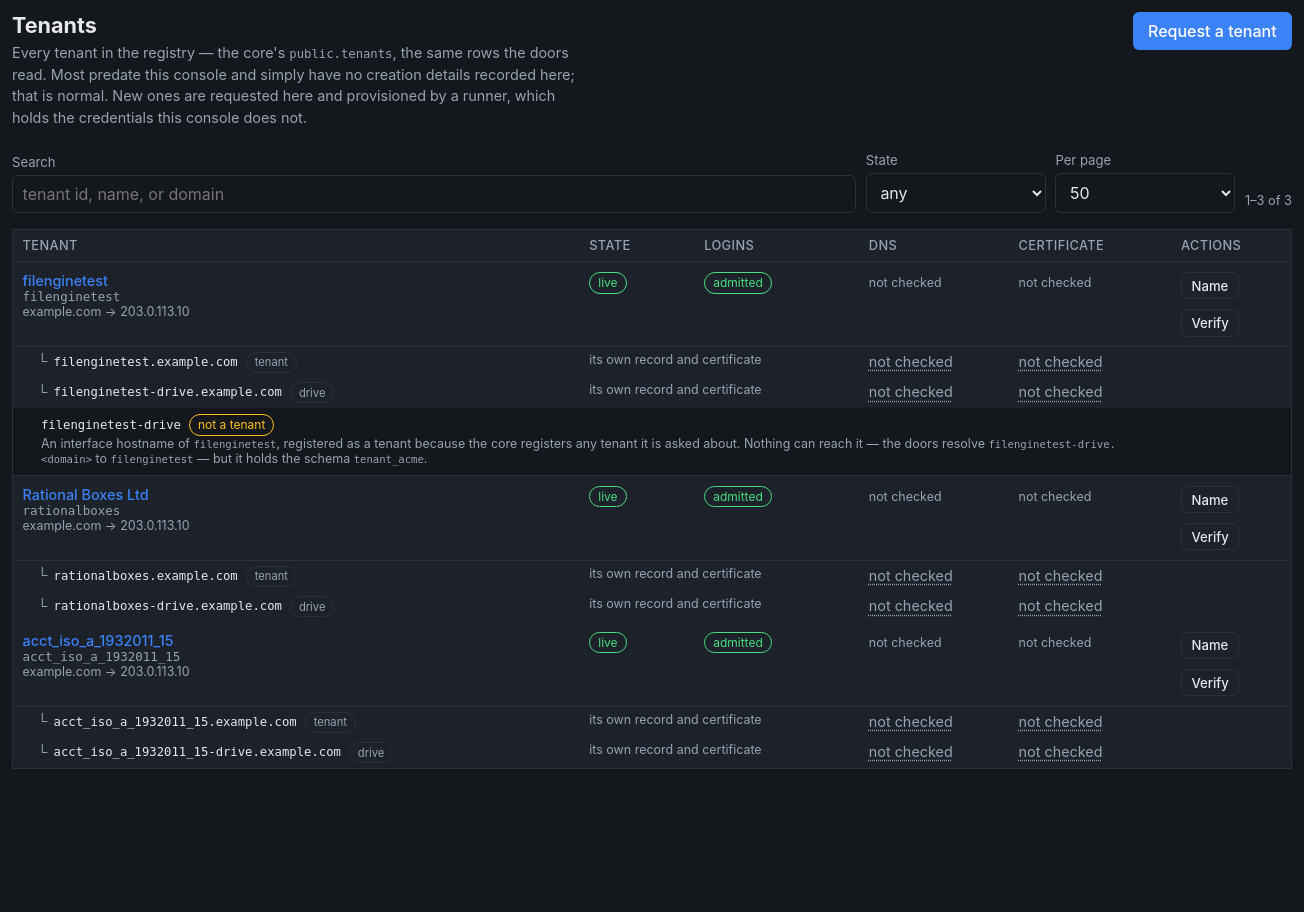
Test: the search filter › shows every interface of a group it keeps
Type "rationalboxes" into the search field labelled "Search".
click(434, 194); type("rationalboxes")  # box [12,175,856,213]
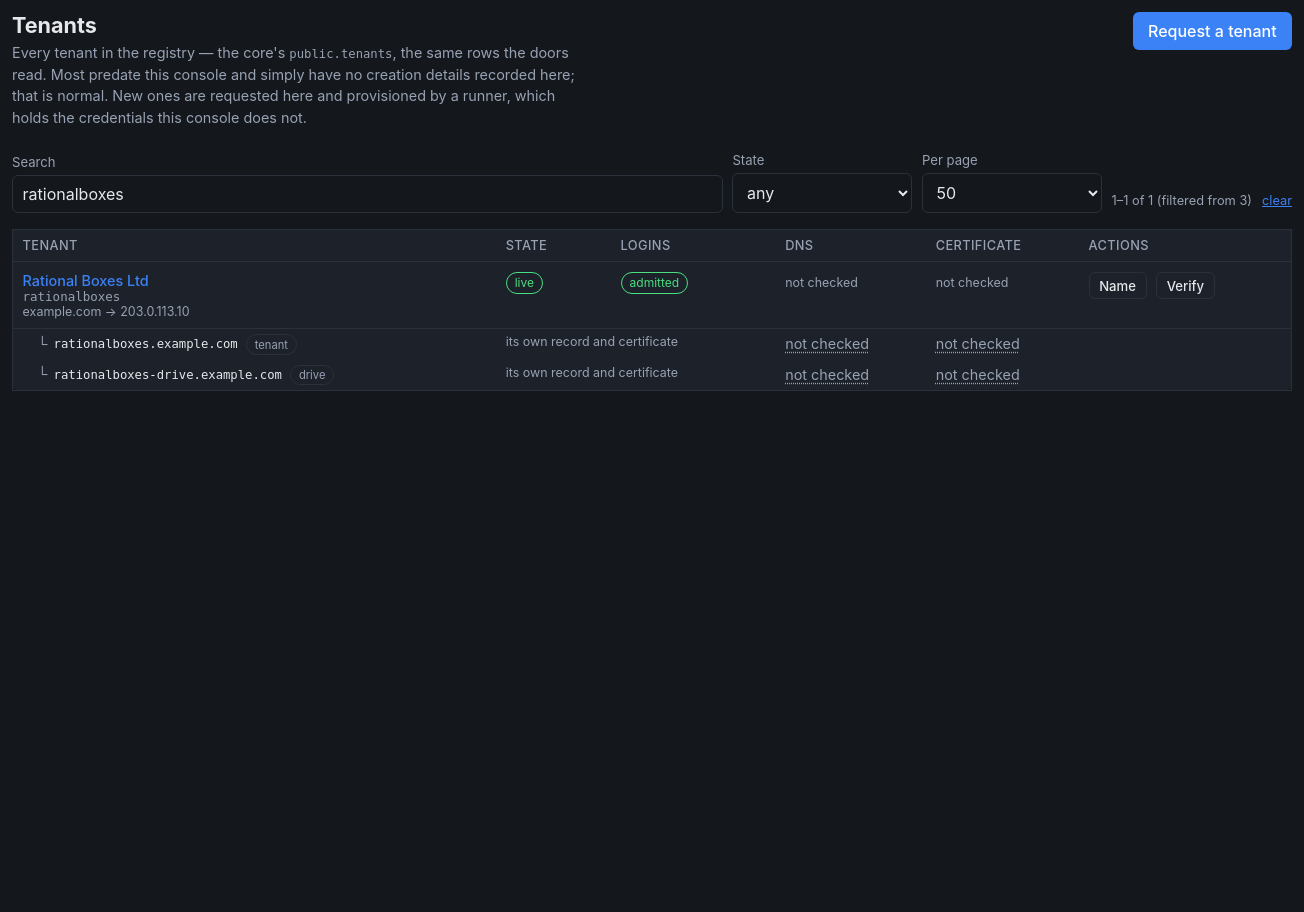
Expected: the text "An interface hostname of" is gone
